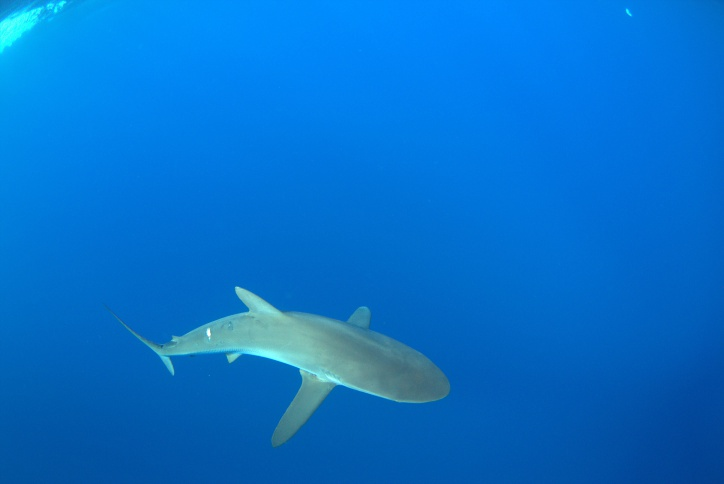Sedoso: (88, 261, 476, 452)
